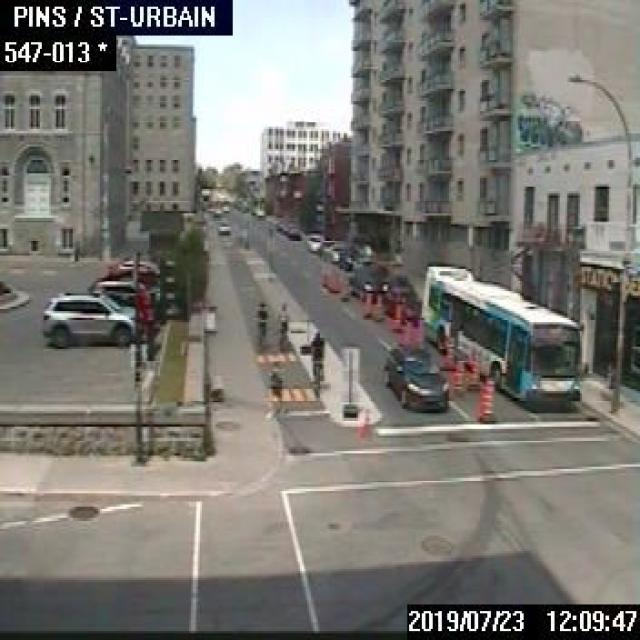bus: (420, 262, 581, 408)
construction: (478, 380, 493, 422), (318, 269, 342, 293), (360, 289, 376, 320), (465, 354, 478, 388), (449, 356, 460, 394), (391, 300, 402, 333), (409, 307, 418, 329)
cyclist: (271, 302, 293, 353), (309, 327, 324, 394), (253, 300, 265, 347)
pedestrian: (267, 367, 280, 418)
vehicle: (42, 292, 134, 343), (384, 337, 448, 410), (87, 276, 160, 321), (380, 272, 420, 318), (347, 261, 390, 298), (105, 257, 159, 276), (339, 243, 375, 270), (319, 242, 347, 262), (304, 232, 325, 250), (249, 202, 266, 218), (286, 225, 300, 238), (216, 221, 228, 232)
